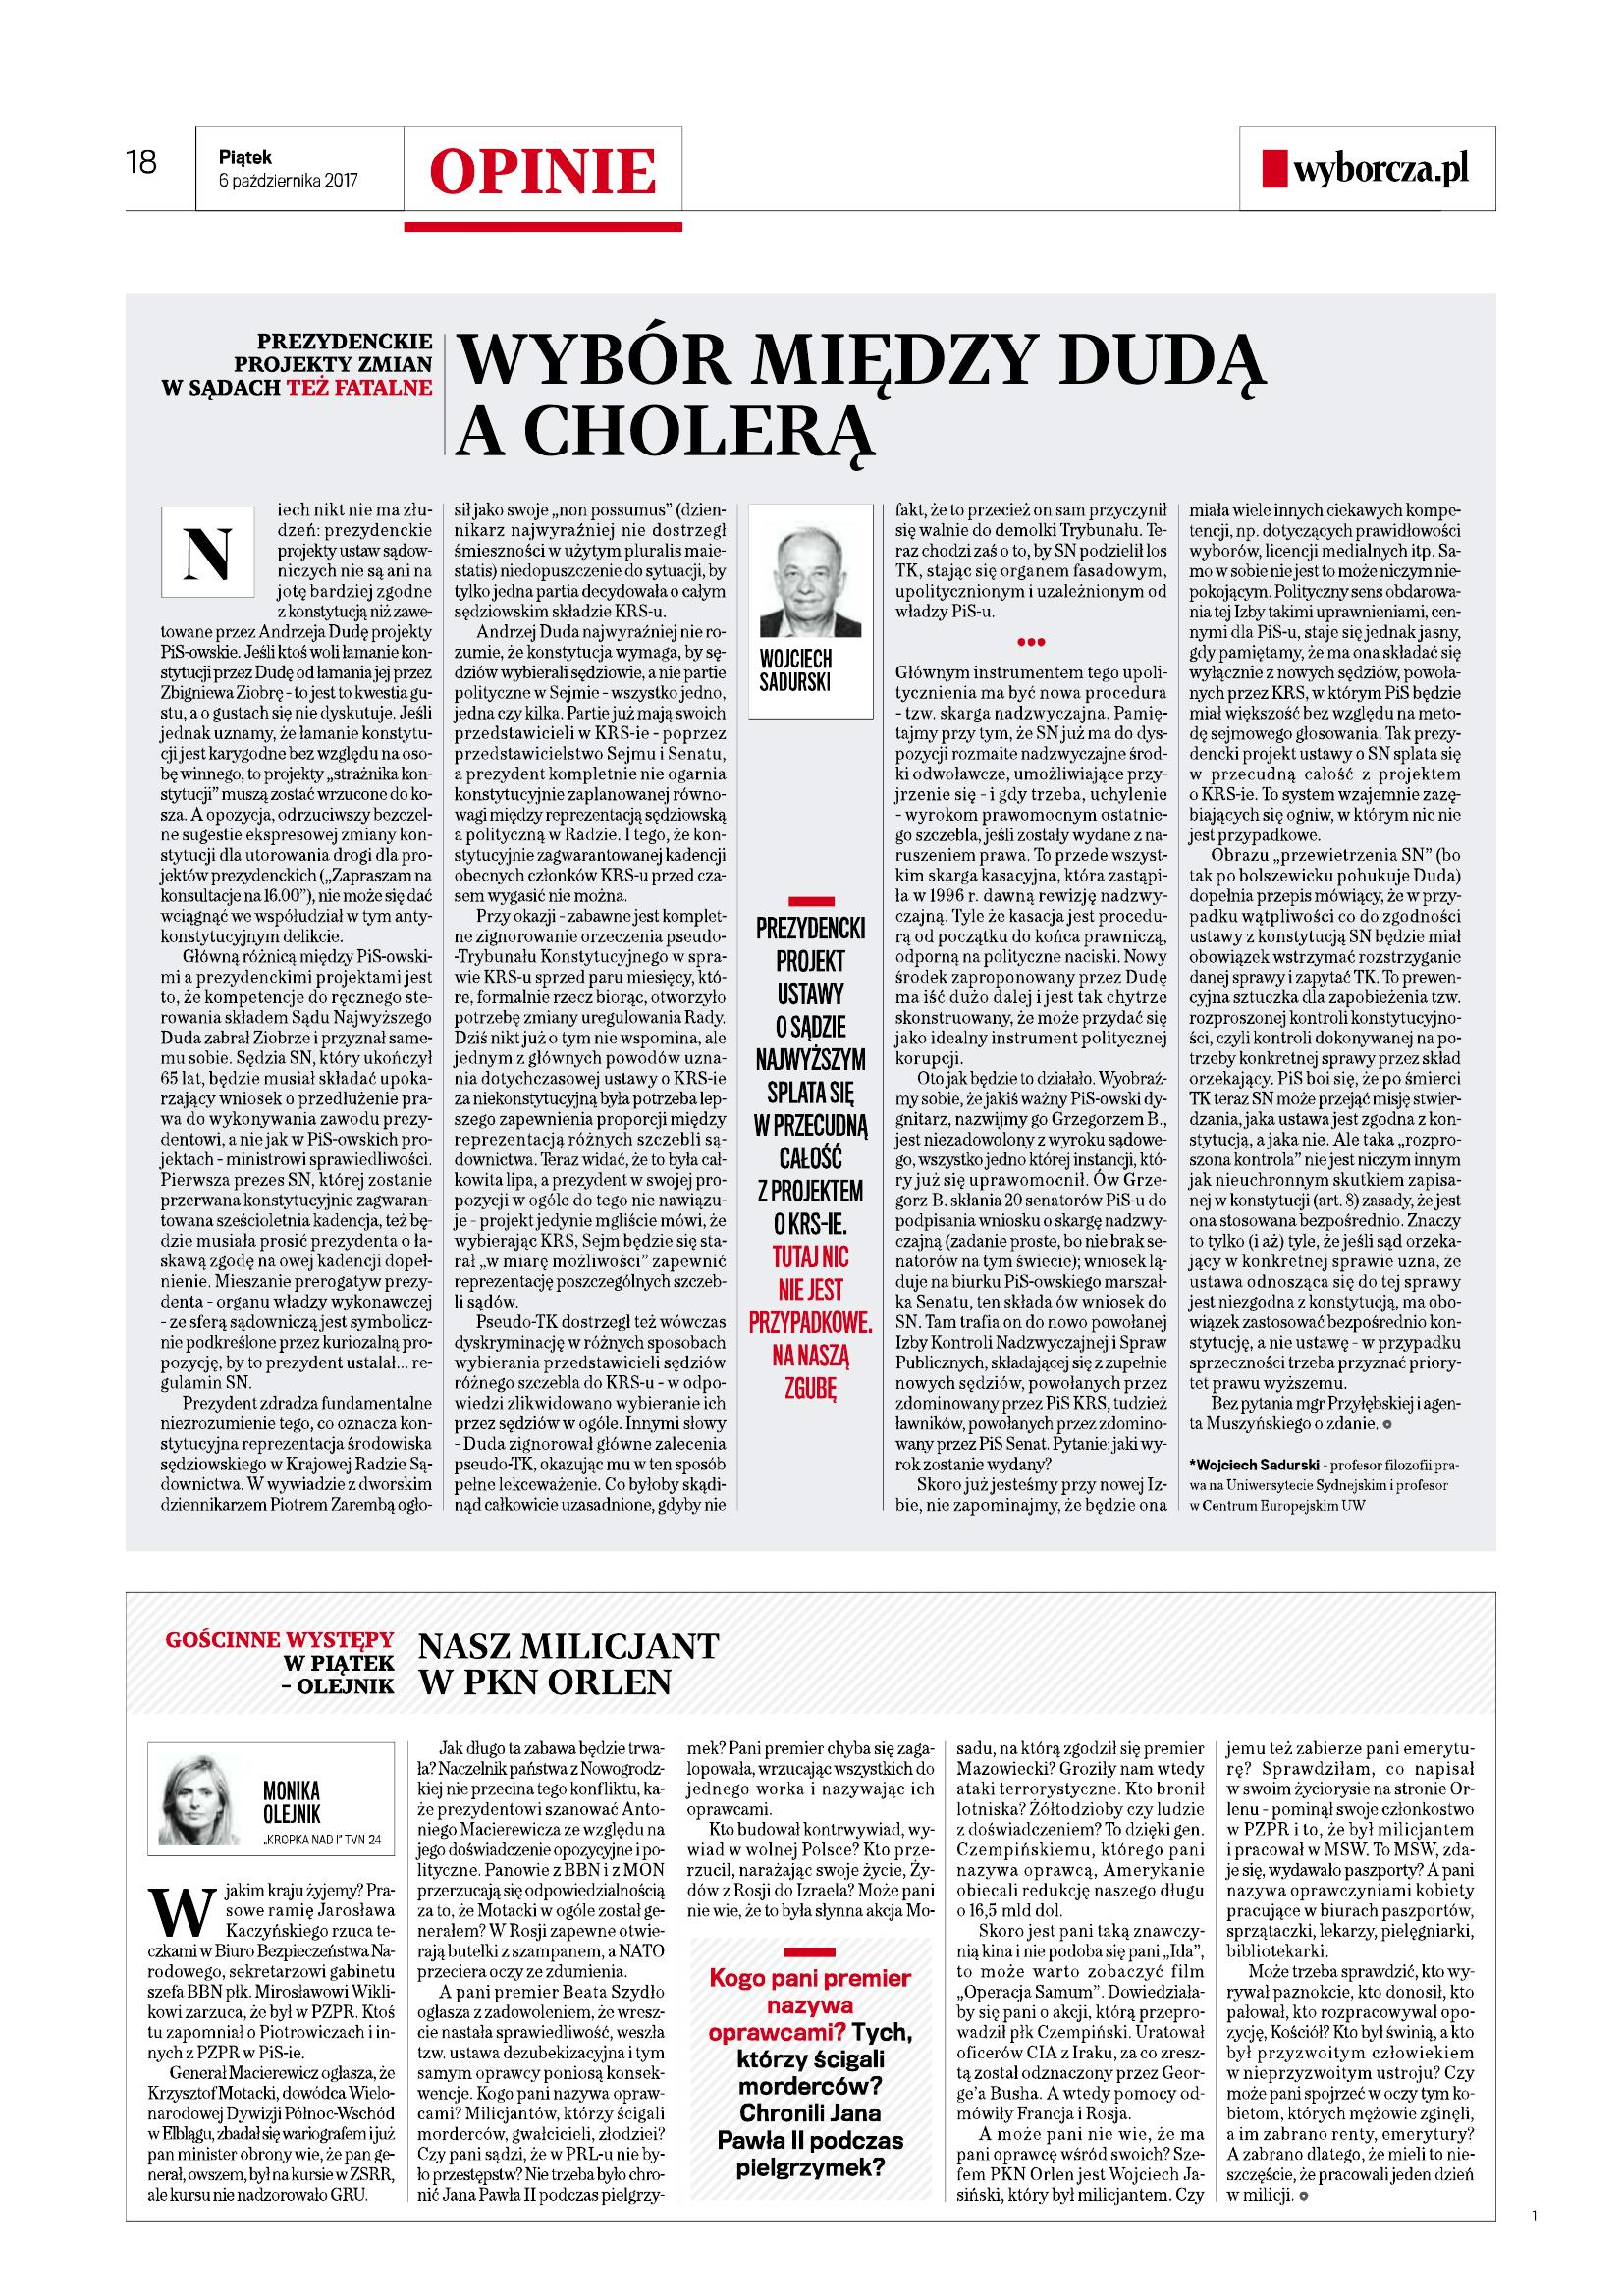article: (149, 304, 1465, 1522), (144, 1617, 1488, 2213)
